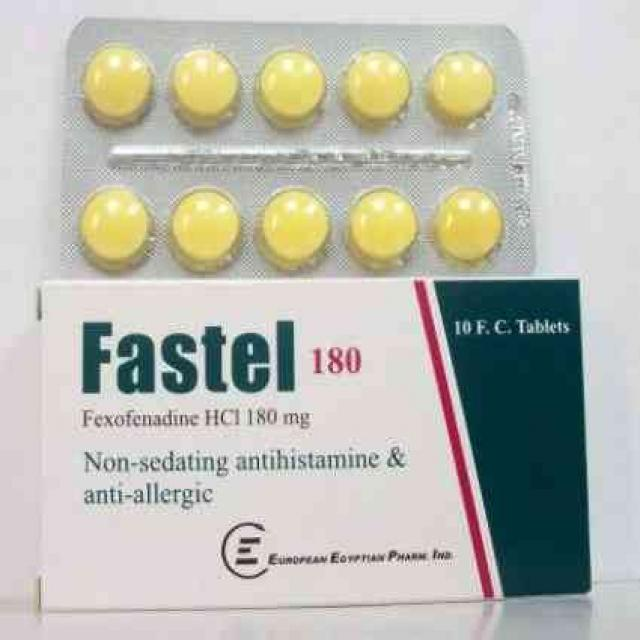drug-name: (78, 316, 364, 397)
